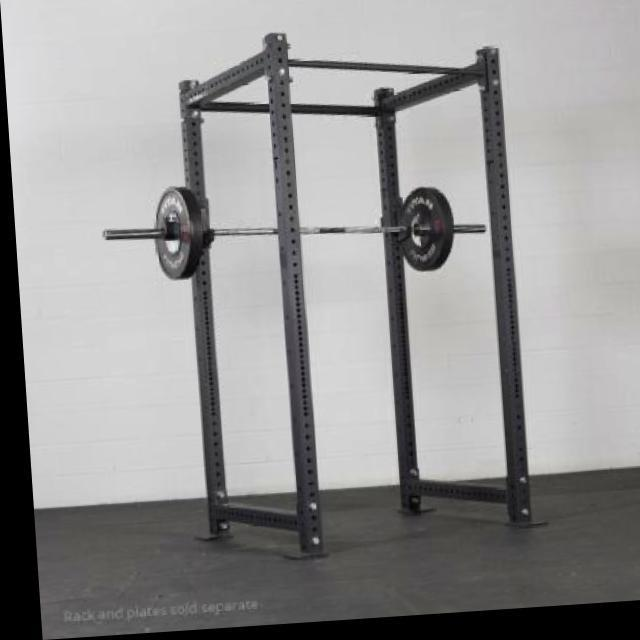barbell: (86, 182, 193, 290)
